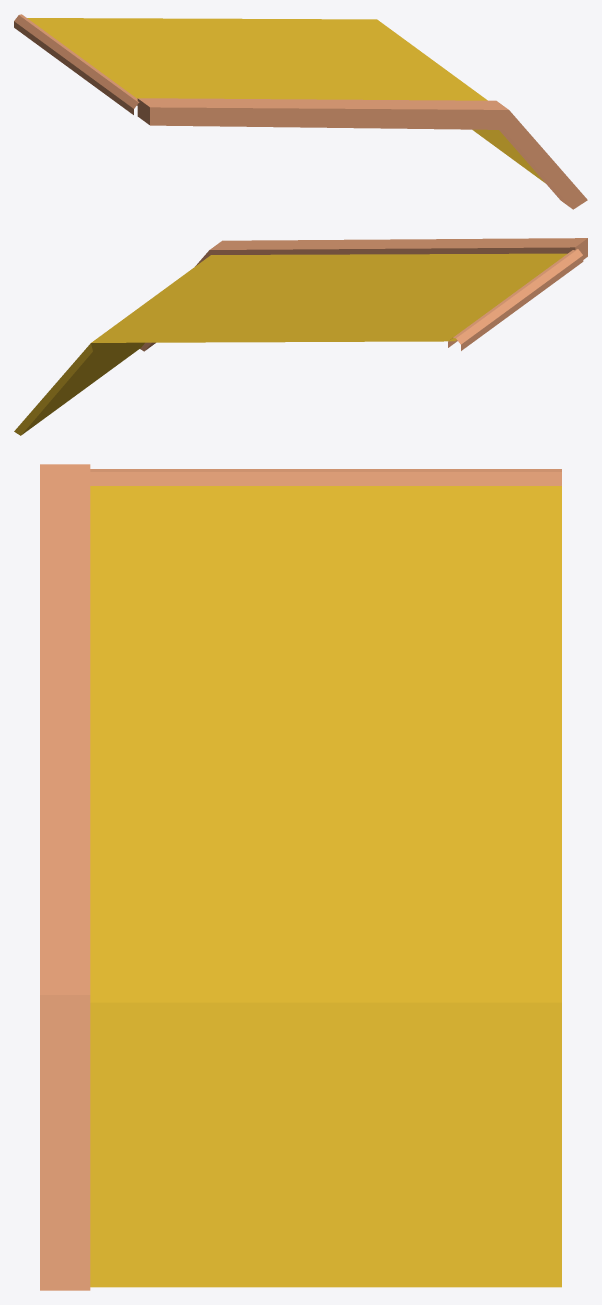
Rendered from Roof_large.fbx.
3 views of the same model, one above another, from view 1: azimuth 30°, elevation 25°; view 2: azimuth 150°, elevation 25°; view 3: azimuth 270°, elevation 25° (orthographic). The views are drawn at different scales.
Visible parts, largest first — view 1: Roof_large, Roof_large_woodcolumns, Cube.083; view 2: Roof_large, Roof_large_woodcolumns, Cube.083; view 3: Roof_large, Roof_large_woodcolumns, Cube.083.
Part boxes in pixels (box(x1,y1,x2,y2)): Roof_large: box(27, 18, 544, 182); Roof_large_woodcolumns: box(137, 98, 587, 209); Cube.083: box(14, 14, 139, 114); Roof_large: box(14, 253, 567, 435); Roof_large_woodcolumns: box(140, 238, 587, 351); Cube.083: box(448, 249, 583, 350); Roof_large: box(90, 486, 561, 1287); Roof_large_woodcolumns: box(40, 464, 90, 1290); Cube.083: box(90, 469, 561, 485).
Bounding box in the file's own units: 961 × 426 × 490.
